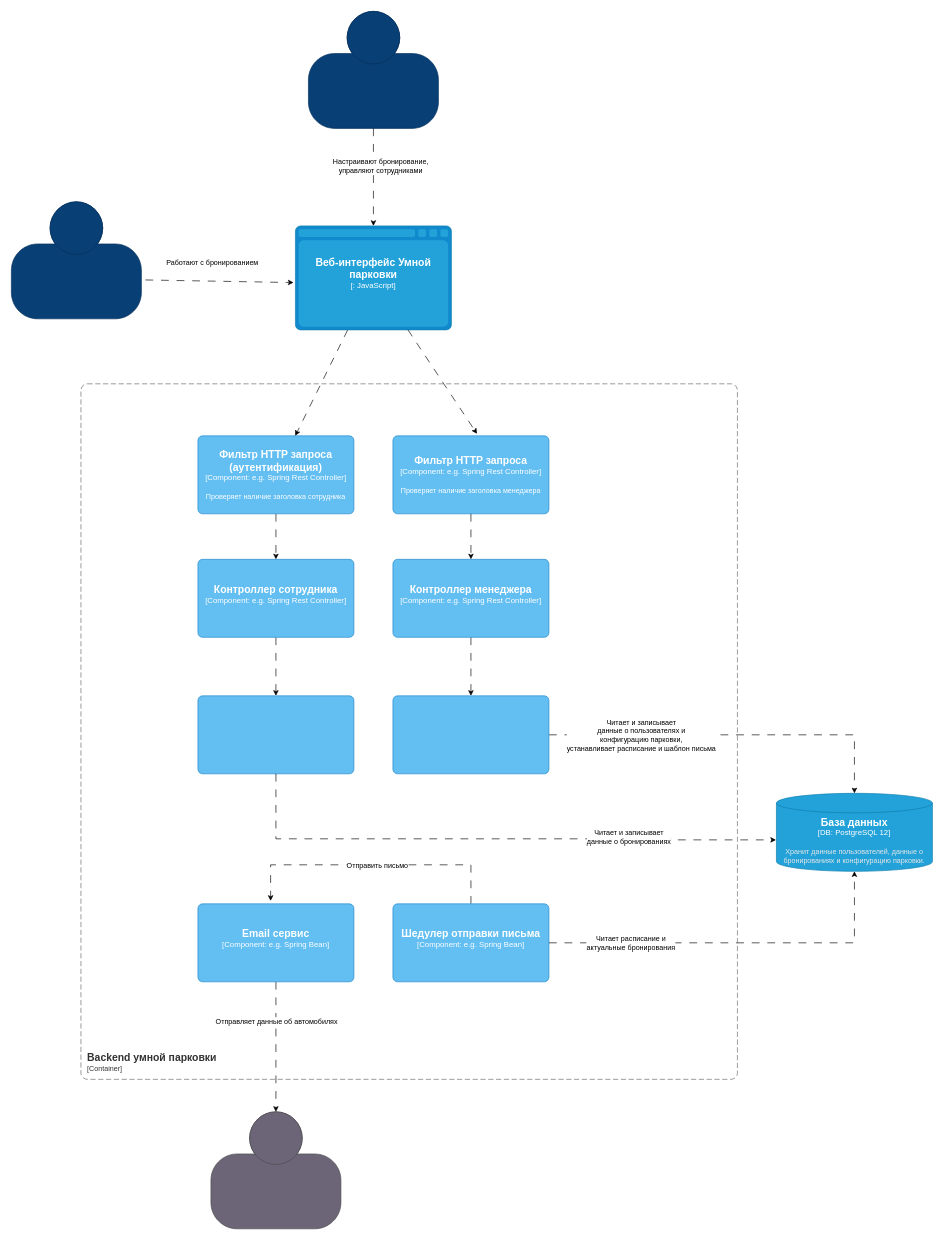
Some shapes in this 944 by 1240 pixel diagram are drawn without their labels. Each missing label, with the box of its shape:
Менеджеры [Person]: (308, 11, 438, 128)
Почта охраны [Person]: (210, 1111, 341, 1229)
Сервис описывающий бизнес логику работы менеджера [Component: e.g. Spring Bean]: (392, 695, 549, 774)
Сервис описывающий бизнес логику работы сотрудника [Component: e.g. Spring Bean]: (197, 695, 354, 774)
Сотрудники [Person]: (11, 201, 141, 319)
